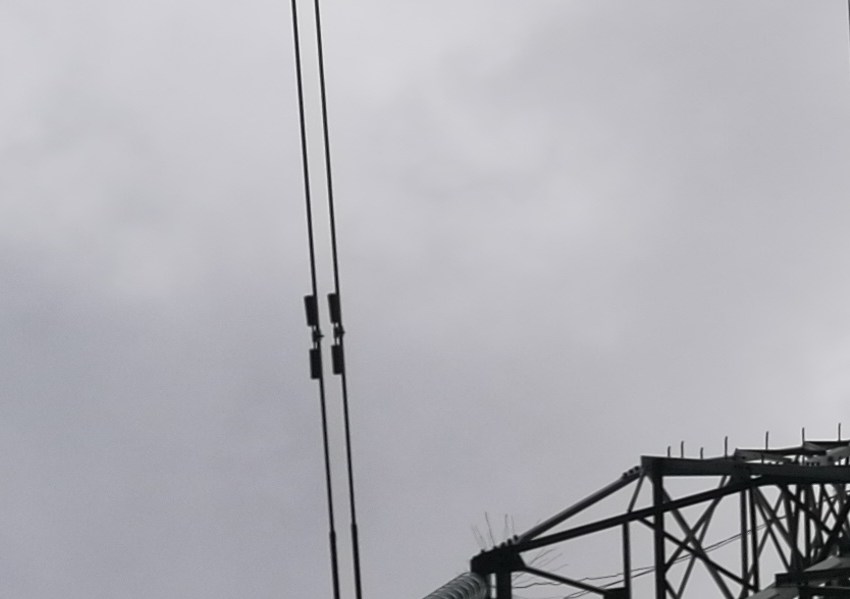damper: (302, 291, 324, 381), (327, 290, 347, 378)
